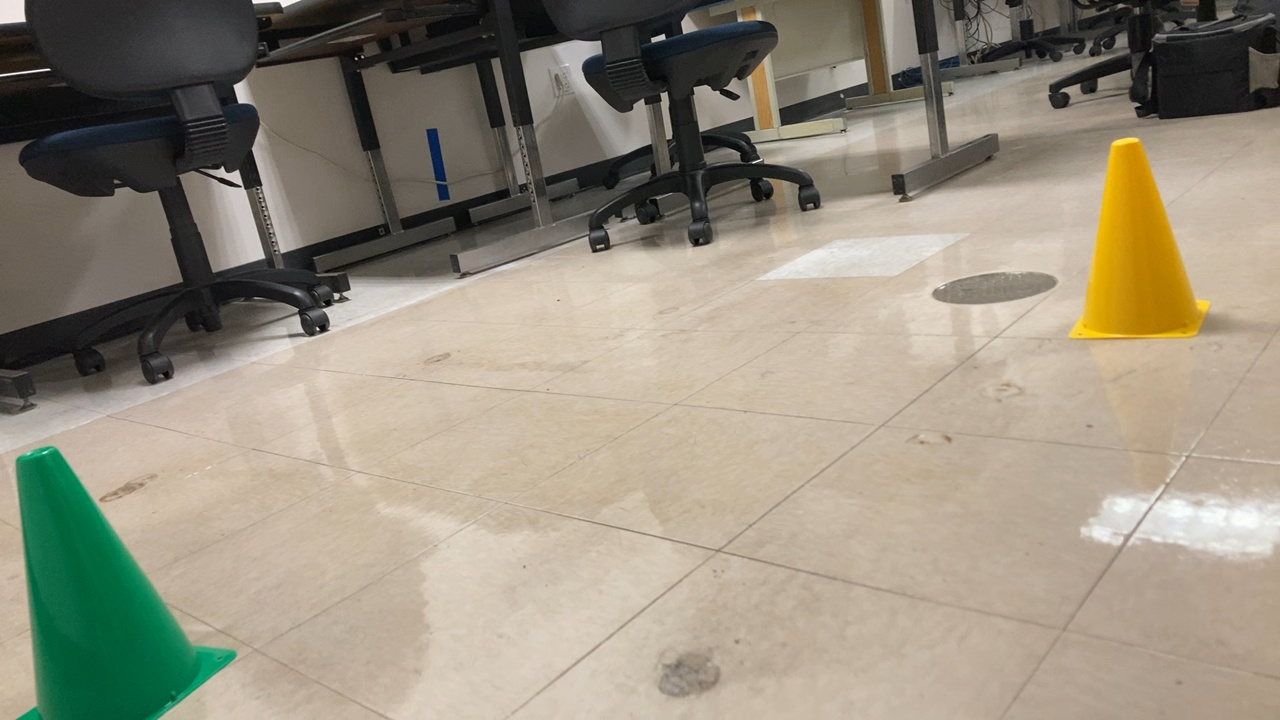green_cone: (1, 432, 234, 720)
yellow_cone: (1060, 126, 1217, 350)
